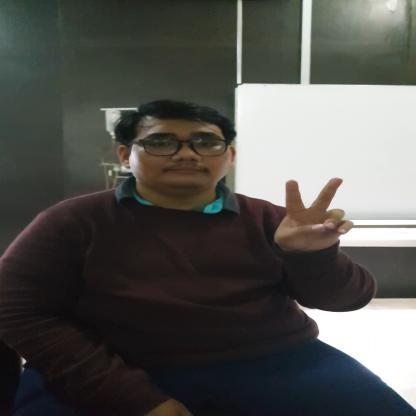V: (272, 176, 357, 250)
